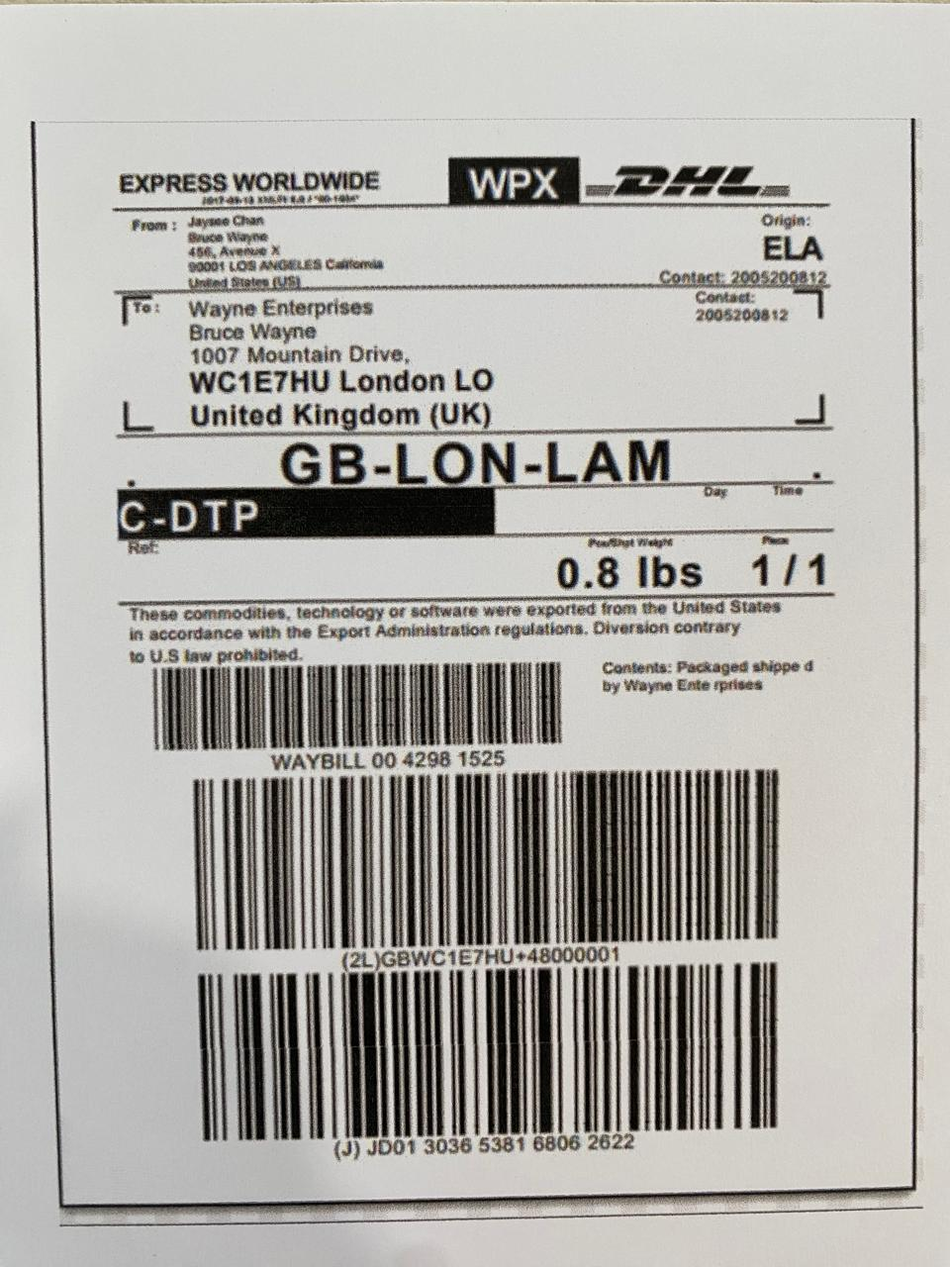waybill_text: (267, 745, 513, 776)
